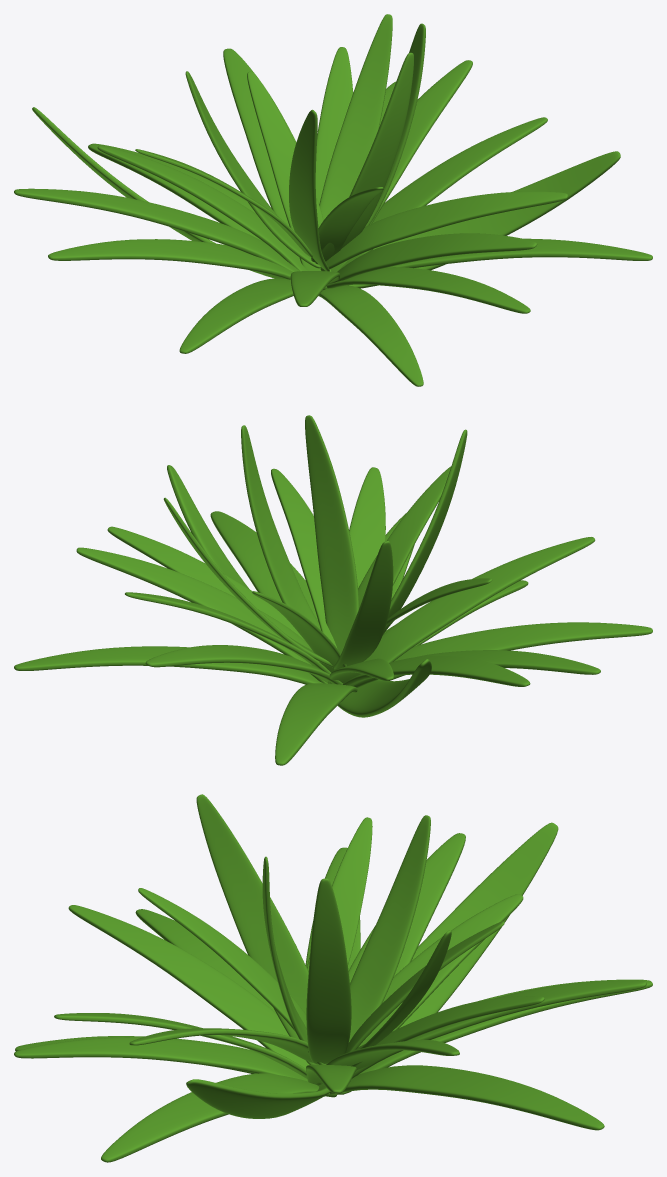
Rendered from Grass_Big.fbx.
3 renders of one model, top to bottom at view 1: azimuth 30°, elevation 25°; view 2: azimuth 150°, elevation 25°; view 3: azimuth 270°, elevation 25°, orthographic. The views are drawn at different scales.
Parts seen in each view (by area): view 1: high.012; view 2: high.012; view 3: high.012.
Part boxes in pixels (x1,y1,x2,y2): high.012: (14, 14, 652, 386); high.012: (14, 415, 652, 765); high.012: (14, 794, 652, 1162).
Bounding box in the file's own units: 337 × 157 × 337.
